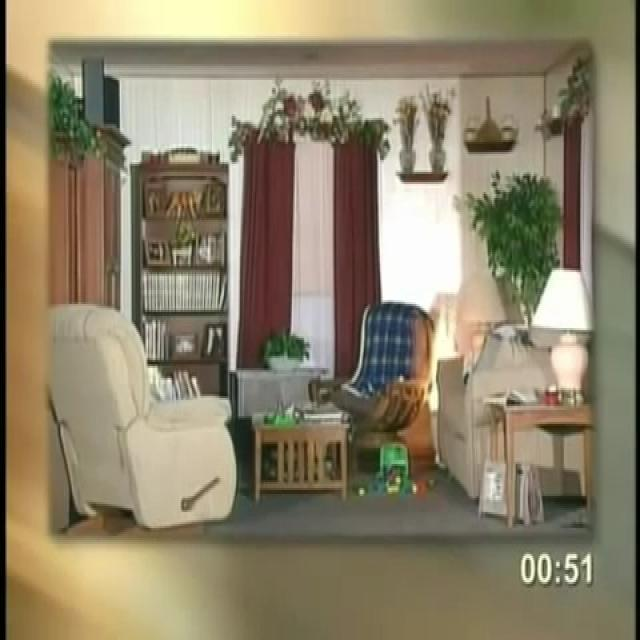Fire: (414, 287, 492, 442)
